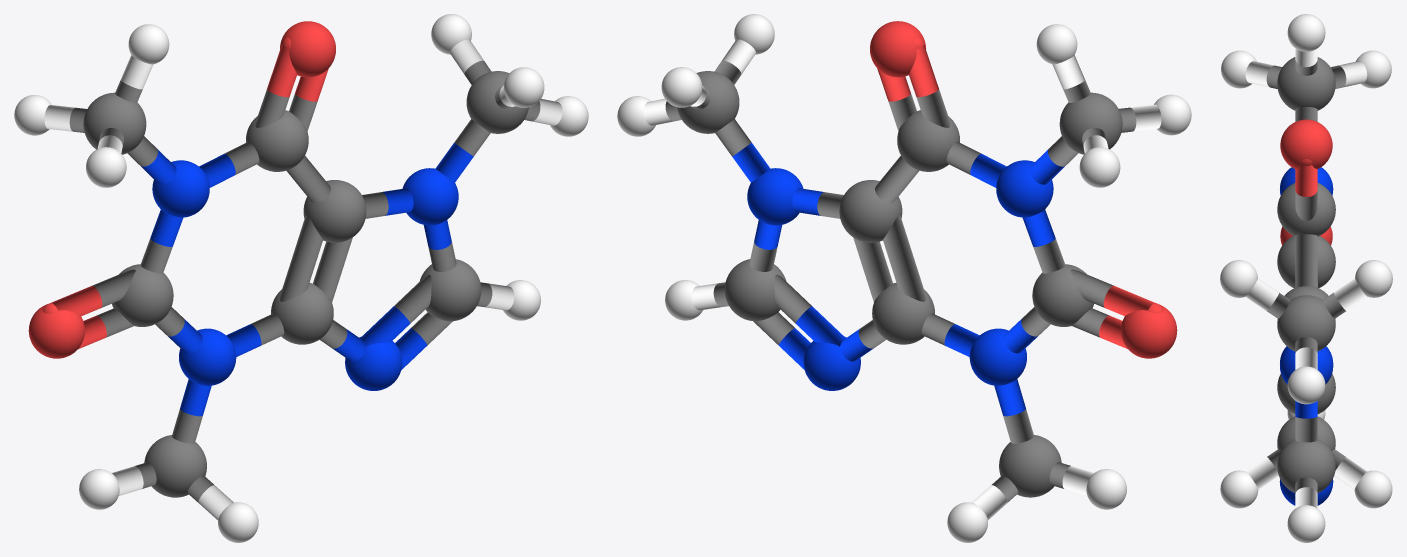
File: caffeine.glb
3 renders of one model, left to right at view 1: azimuth 30°, elevation 25°; view 2: azimuth 150°, elevation 25°; view 3: azimuth 270°, elevation 25°, orthographic. The views are drawn at different scales.
Parts seen in each view (by area): view 1: caffeine; view 2: caffeine; view 3: caffeine.
Part boxes in pixels (left/top/right/bottom): caffeine: left=14, top=14, right=588, bottom=542; caffeine: left=617, top=14, right=1191, bottom=542; caffeine: left=1220, top=14, right=1392, bottom=542.
Bounding box in the file's own units: 7.93 × 6.87 × 2.31.
